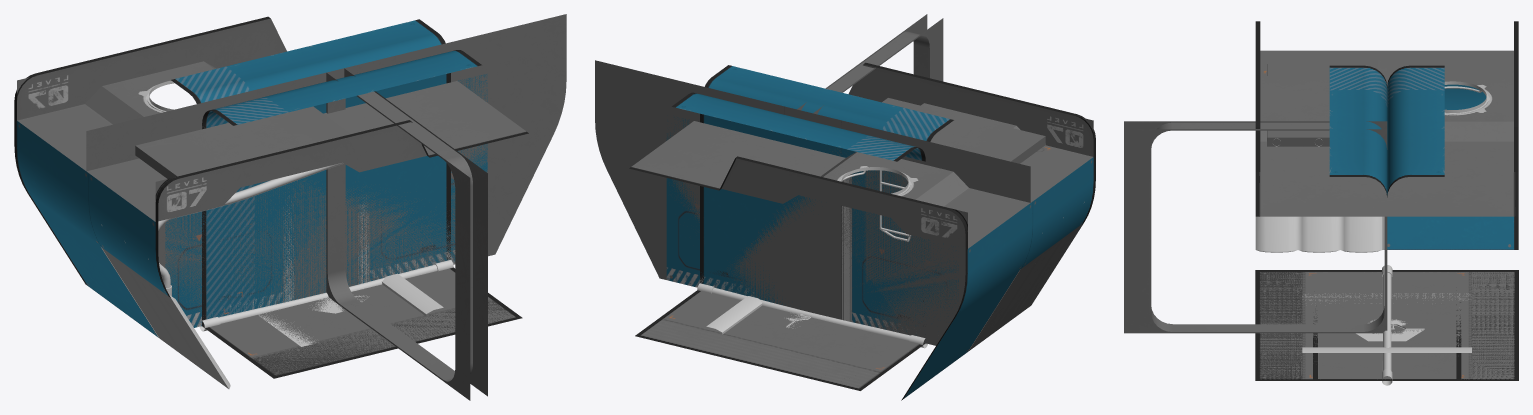
Rendered from Corridor_p2.fbx.
3 views of the same model, side by side, from view 1: azimuth 30°, elevation 25°; view 2: azimuth 150°, elevation 25°; view 3: azimuth 270°, elevation 25° (orthographic). The views are drawn at different scales.
Parts seen in each view (by area): view 1: Wall_013, Wall_012, Ceiling_02, Wall_07, Wall_04, Structure_02, Floor_Piece2, Floor_Piece1, Side_Wall_01, Side_Wall_02, Wall_014, Floor_06 (+2 smaller); view 2: Wall_012, Wall_07, Ceiling_02, Wall_014, Wall_04, Floor_Piece1, Side_Wall_01, Side_Wall_02, Wall_013, Structure_02, Pipe_Small_01, Floor_06 (+1 smaller); view 3: Ceiling_02, Floor_Piece1, Floor_Piece2, Structure_02, Wall_015, Wall_013, Wall_014, Wall_04, White_Wall_Vent, Floor_06, Pipe_Small_01, Exit_01 (+1 smaller).
Boxes of the visible parts, x1=… form: Wall_013: x1=171, y1=19, x2=450, y2=325; Wall_012: x1=165, y1=14, x2=566, y2=327; Ceiling_02: x1=14, y1=16, x2=528, y2=223; Wall_07: x1=86, y1=70, x2=487, y2=325; Wall_04: x1=14, y1=119, x2=228, y2=388; Structure_02: x1=326, y1=68, x2=487, y2=400; Floor_Piece2: x1=202, y1=268, x2=522, y2=377; Floor_Piece1: x1=202, y1=267, x2=520, y2=378; Side_Wall_01: x1=17, y1=18, x2=286, y2=120; Side_Wall_02: x1=155, y1=125, x2=426, y2=221; Wall_014: x1=202, y1=50, x2=481, y2=324; Floor_06: x1=259, y1=273, x2=443, y2=346; Wall_012: x1=595, y1=60, x2=958, y2=333; Wall_07: x1=666, y1=106, x2=1030, y2=345; Ceiling_02: x1=629, y1=62, x2=1095, y2=250; Wall_014: x1=700, y1=65, x2=953, y2=304; Wall_04: x1=901, y1=155, x2=1095, y2=400; Floor_Piece1: x1=635, y1=290, x2=925, y2=390; Side_Wall_01: x1=721, y1=158, x2=967, y2=248; Side_Wall_02: x1=848, y1=64, x2=1093, y2=156; Wall_013: x1=672, y1=92, x2=925, y2=301; Structure_02: x1=797, y1=14, x2=943, y2=114; Pipe_Small_01: x1=697, y1=283, x2=927, y2=348; Floor_06: x1=706, y1=296, x2=762, y2=334; Ceiling_02: x1=1255, y1=21, x2=1518, y2=216; Floor_Piece1: x1=1255, y1=270, x2=1518, y2=380; Floor_Piece2: x1=1255, y1=270, x2=1518, y2=380; Structure_02: x1=1124, y1=121, x2=1387, y2=333; Wall_015: x1=1313, y1=297, x2=1461, y2=380; Wall_013: x1=1387, y1=65, x2=1444, y2=195; Wall_014: x1=1329, y1=65, x2=1387, y2=197; Wall_04: x1=1382, y1=84, x2=1518, y2=249; White_Wall_Vent: x1=1255, y1=216, x2=1382, y2=252; Floor_06: x1=1302, y1=293, x2=1471, y2=352; Pipe_Small_01: x1=1382, y1=265, x2=1392, y2=385; Exit_01: x1=1444, y1=81, x2=1489, y2=114.
Bounding box in the file's own units: 6.75 × 3.41 × 5.25.
